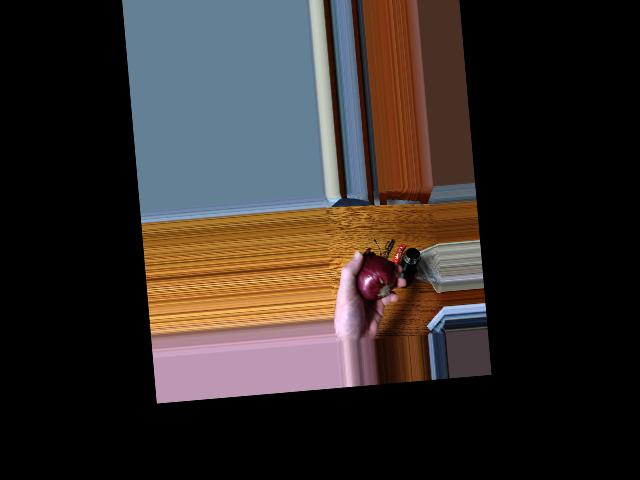onion: (358, 255, 394, 291)
